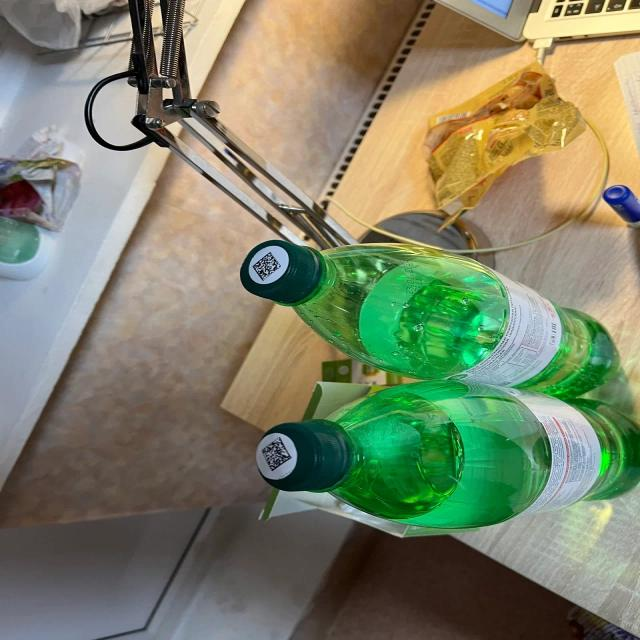datamatrix: (263, 437, 294, 472), (253, 252, 284, 282)
